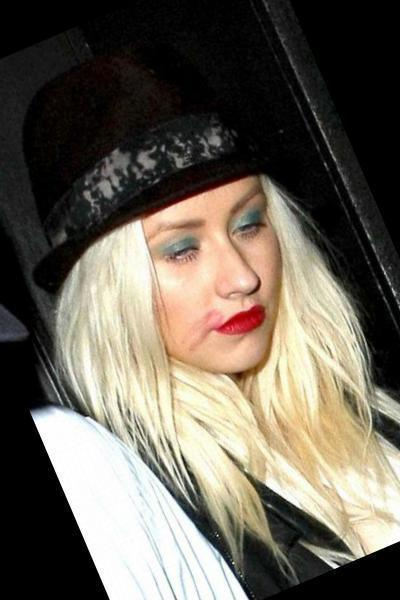Drunk: (149, 204, 284, 358)
